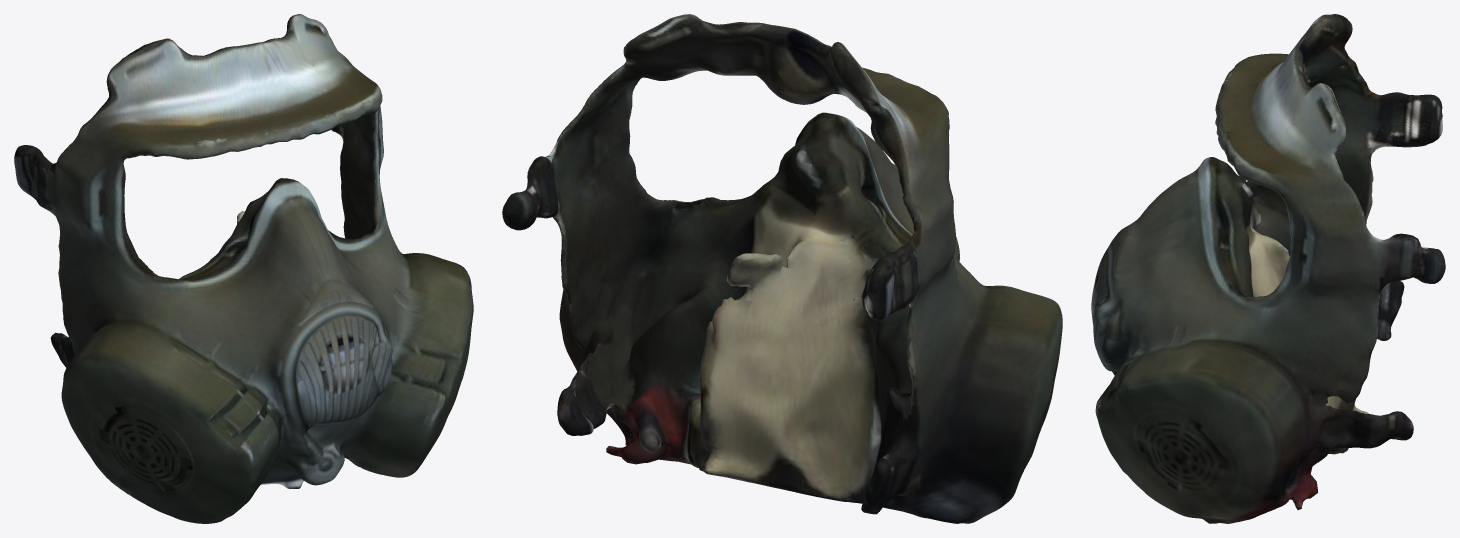
The model's file is GasMask.obj.
The picture shows the model from 3 angles, left to right: view 1: azimuth 30°, elevation 25°; view 2: azimuth 150°, elevation 25°; view 3: azimuth 270°, elevation 25°; orthographic projection. The views are drawn at different scales.
Visible parts, largest first — view 1: Object_2_0; view 2: Object_2_0; view 3: Object_2_0.
Part boxes in pixels (x1=…): Object_2_0: x1=14, y1=14, x2=473, y2=523; Object_2_0: x1=502, y1=14, x2=1062, y2=523; Object_2_0: x1=1091, y1=14, x2=1445, y2=523.
Bounding box in the file's own units: 0.2236 × 0.234 × 0.1767.
Materials: 1 (1 with a texture image).
